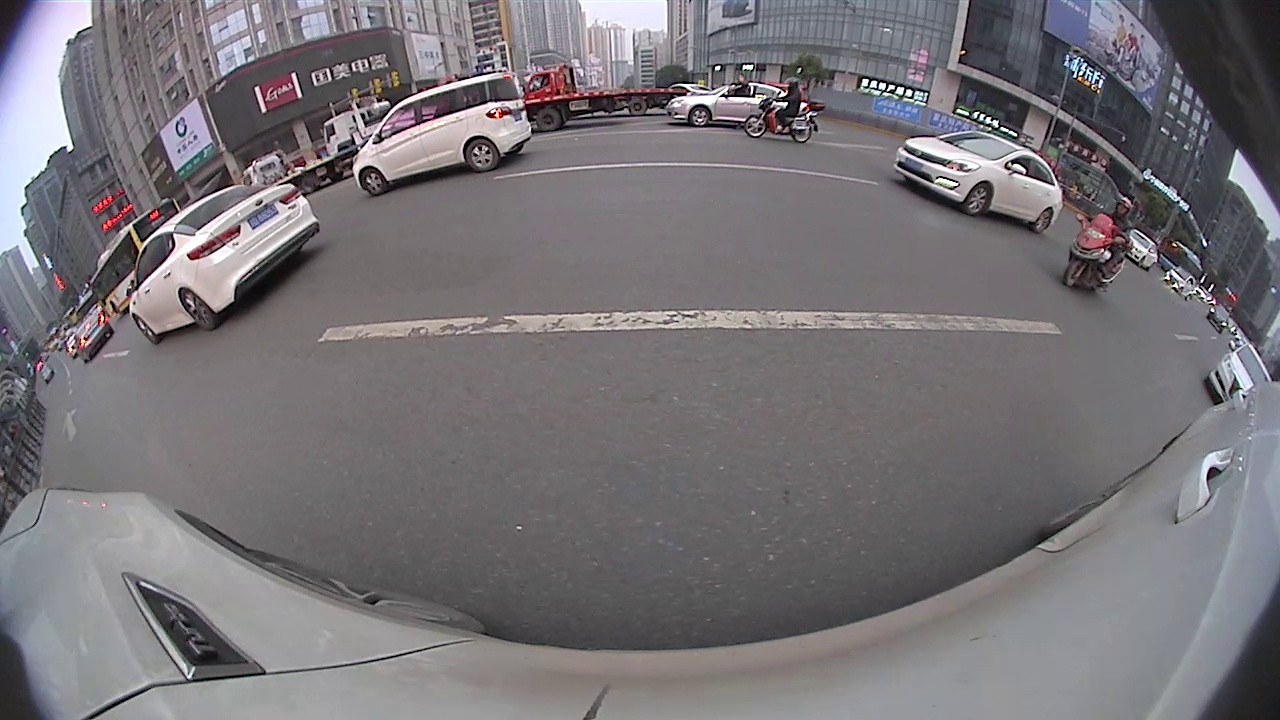bus: (92, 196, 190, 319)
car: (129, 176, 321, 346), (351, 71, 538, 202), (894, 129, 1064, 236), (663, 79, 792, 138), (1209, 344, 1279, 413), (73, 316, 117, 366)
front: (964, 180, 993, 218), (359, 166, 388, 197), (532, 105, 562, 134), (134, 315, 161, 346), (1064, 258, 1087, 287), (687, 104, 712, 128), (745, 114, 769, 138)
rear: (179, 287, 220, 334), (463, 137, 502, 173), (1031, 208, 1054, 236), (626, 97, 647, 118), (791, 124, 814, 143)
rider: (1066, 199, 1137, 293), (753, 84, 816, 146)
truck: (518, 60, 689, 139)
